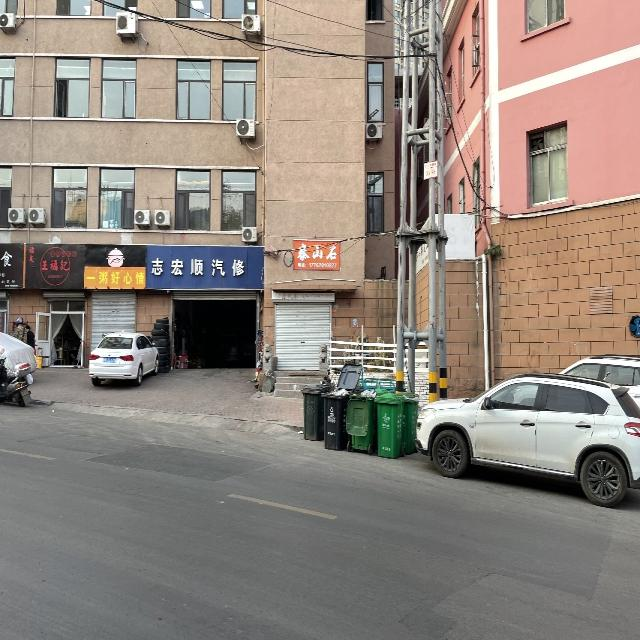garbage_bin: (374, 393, 403, 458), (301, 382, 324, 440)
overflow: (344, 388, 376, 449), (320, 387, 350, 449), (402, 392, 420, 454)
